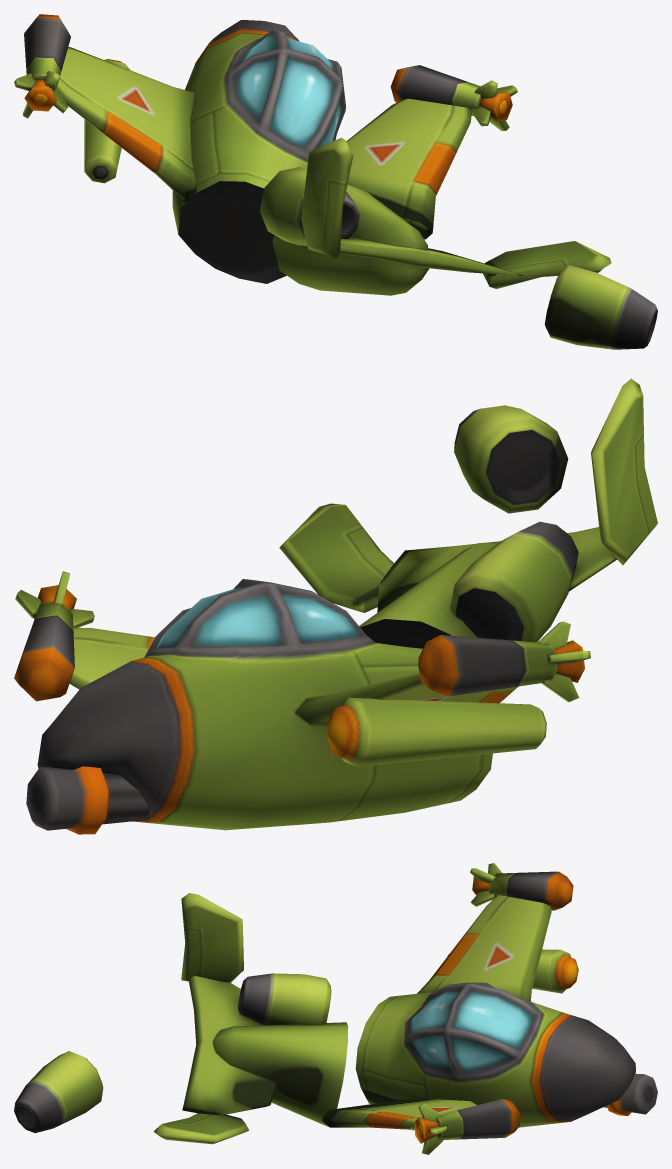
The model's file is Map05_feijicanhai.fbx.
3 views of the same model, one above another, from view 1: azimuth 30°, elevation 25°; view 2: azimuth 150°, elevation 25°; view 3: azimuth 270°, elevation 25° (orthographic). The views are drawn at different scales.
Visible parts, largest first — view 1: polySurface19; view 2: polySurface19; view 3: polySurface19.
Part boxes in pixels (x1,y1,x2,y2): polySurface19: (14, 14, 657, 349); polySurface19: (14, 378, 657, 834); polySurface19: (14, 863, 657, 1154).
Size of the model in its own units: 239 by 117 by 342.
